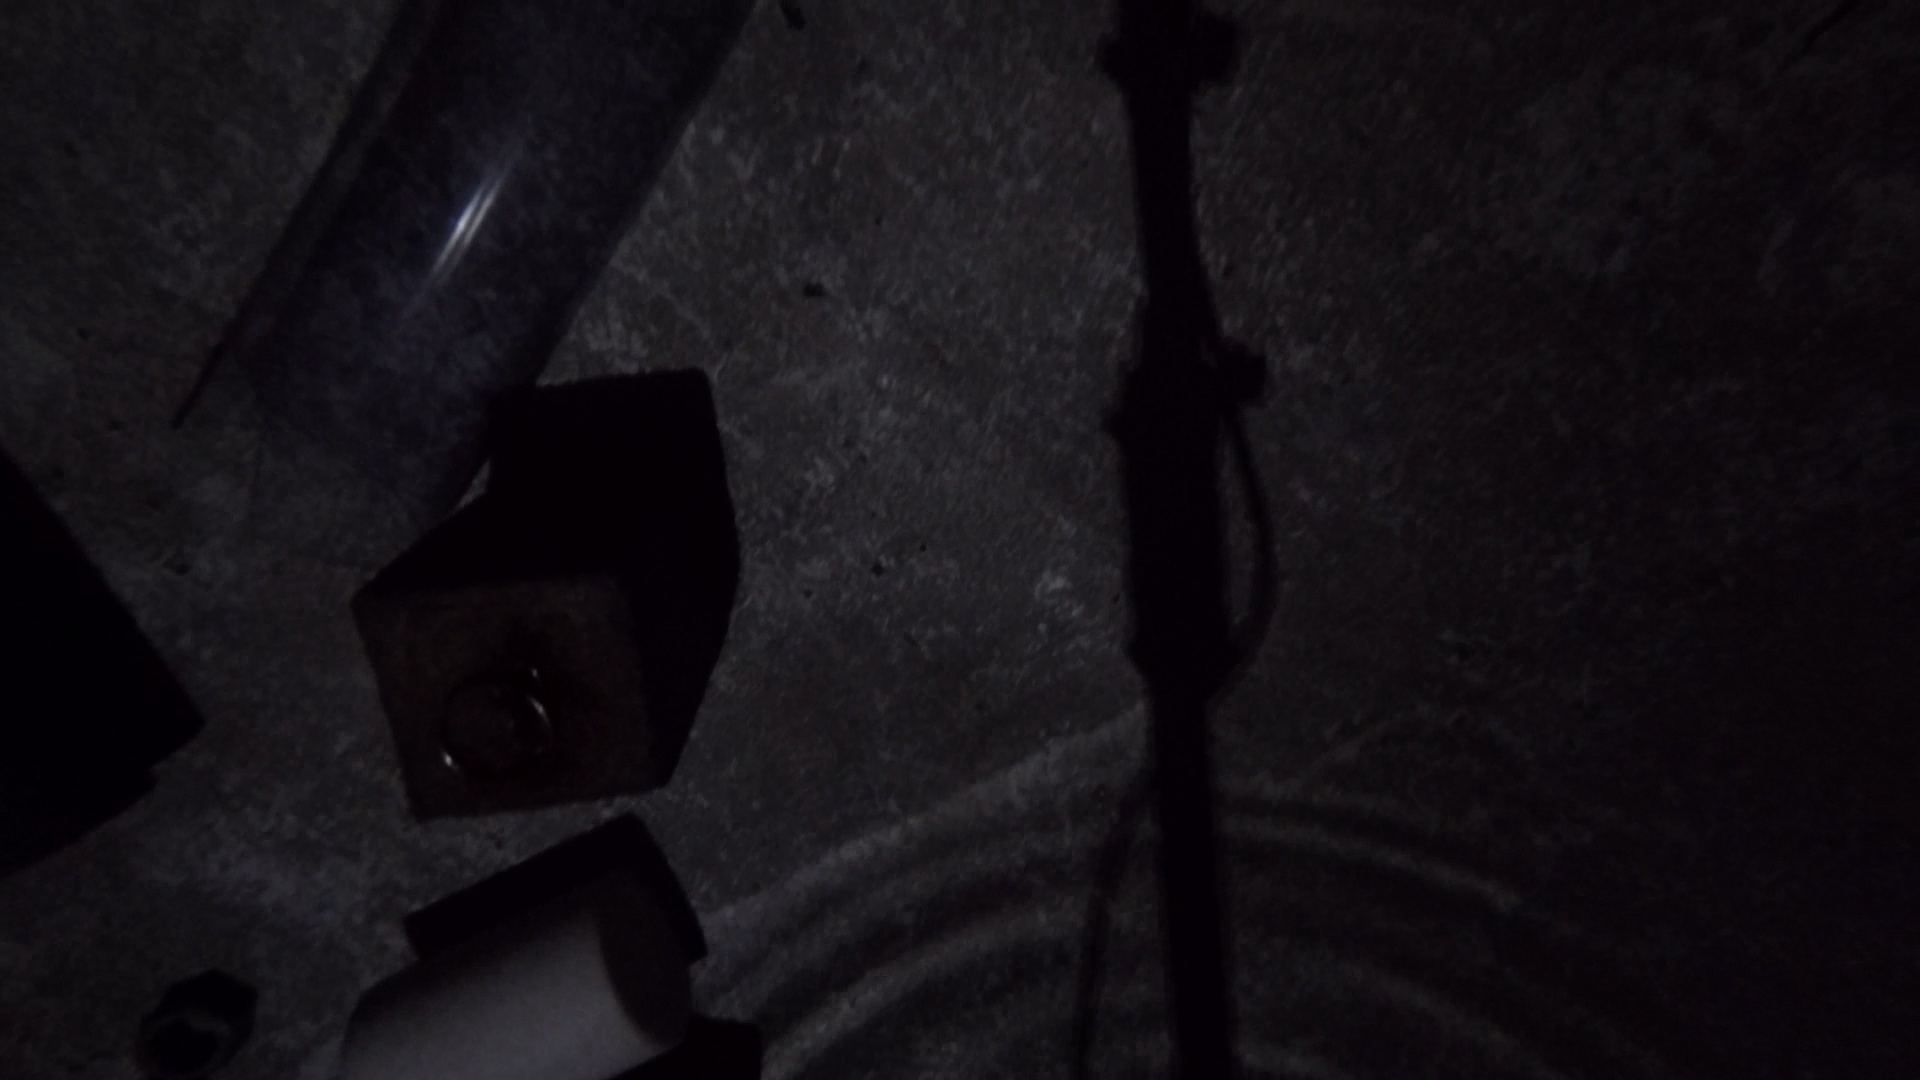led_block: (348, 386, 704, 829)
nut: (132, 973, 255, 1065)
pipe: (171, 1, 754, 574), (1, 421, 200, 874), (338, 882, 691, 1075)
